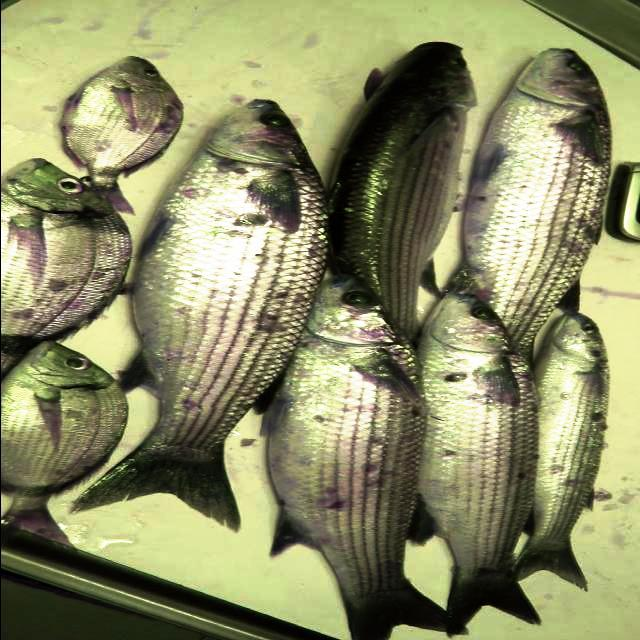Epizootic Ulcerative Syndrome -EUS-: (73, 99, 326, 529), (263, 277, 422, 639), (463, 49, 608, 344), (3, 158, 131, 349)
